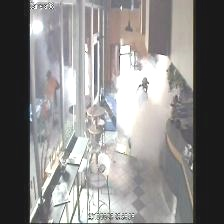smoke: (111, 49, 174, 178)
